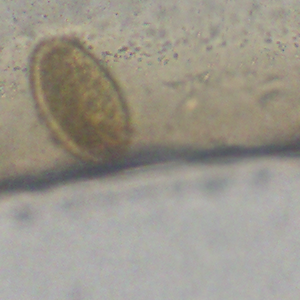Fasciola_hepatica_egg: (27, 33, 131, 168)
